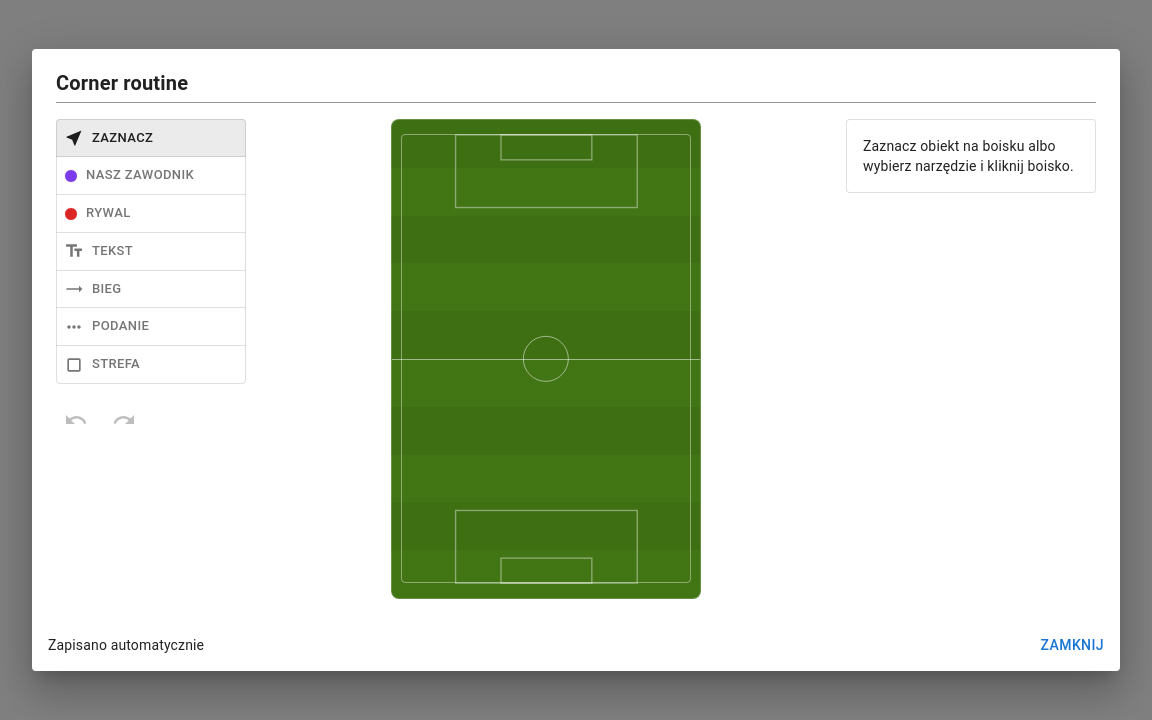
Test: placing objects › selects the new object and shows its properties
Click the button "Nasz zawodnik" at (151, 176), box [56,156,246,195]
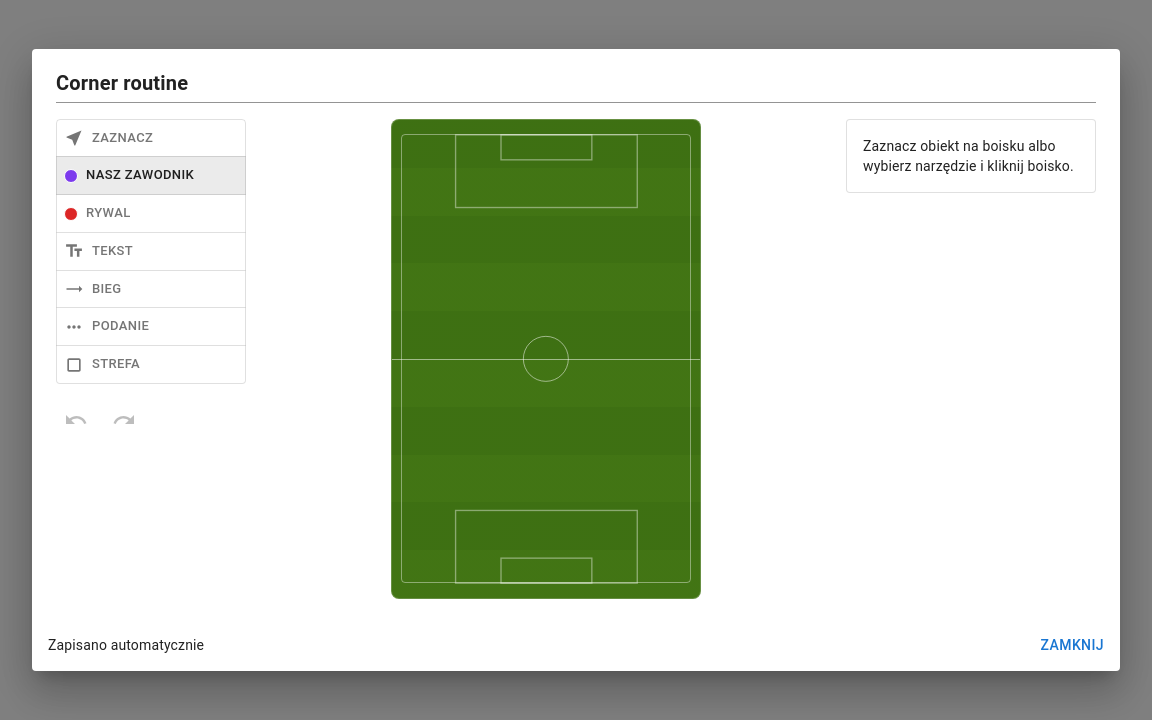
Press the mouse on the 1st icon at (546, 359), box [392,120,700,598]
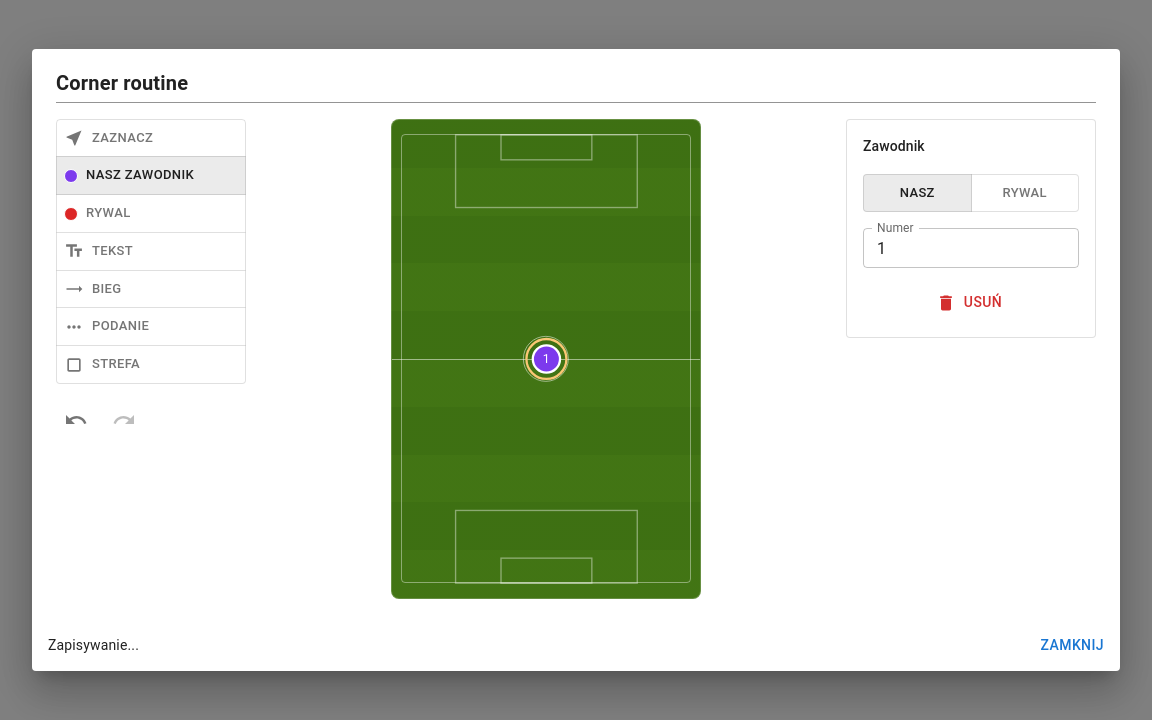
Now the heading "Zawodnik" is shown, box [863,138,925,154]
Now the field labelled "Numer" holds "1", box [863,228,1079,268]
